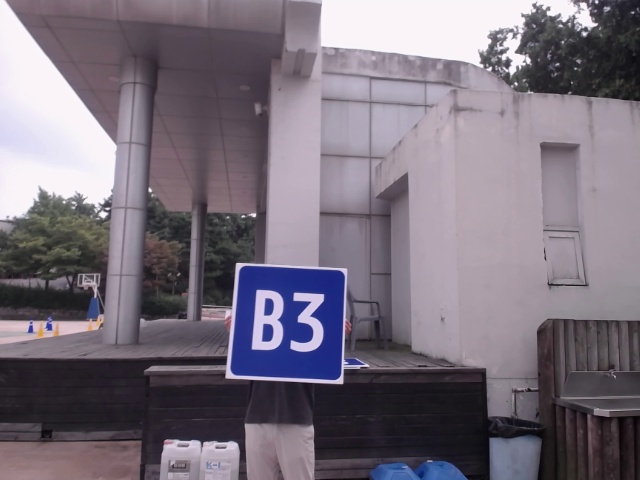delivery_b3: (231, 265, 346, 381)
